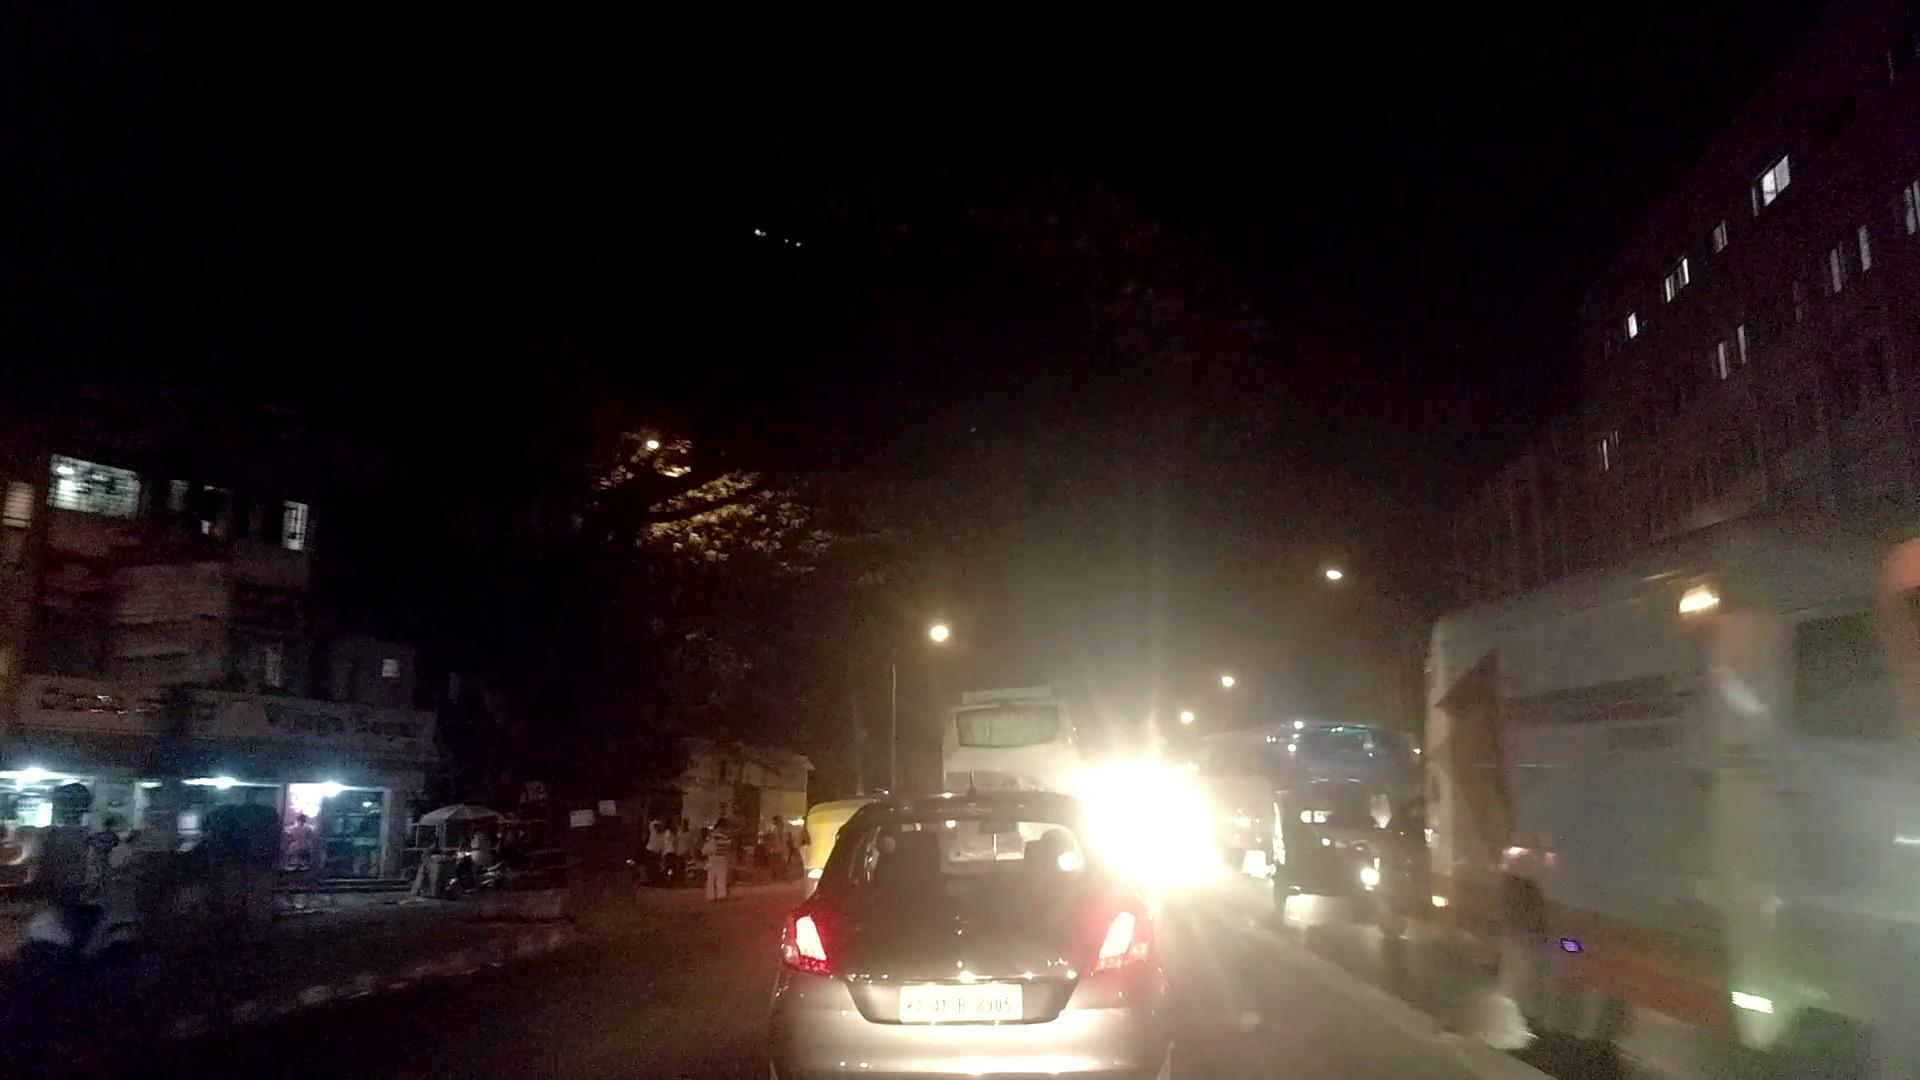on: (800, 522, 1175, 907)
